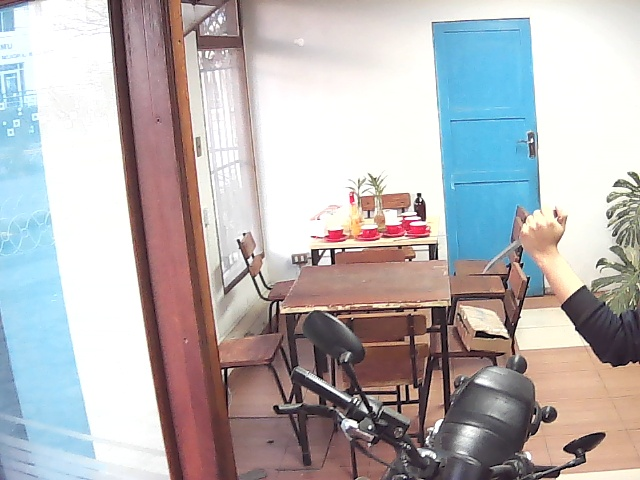cuchillo: (476, 202, 580, 282)
